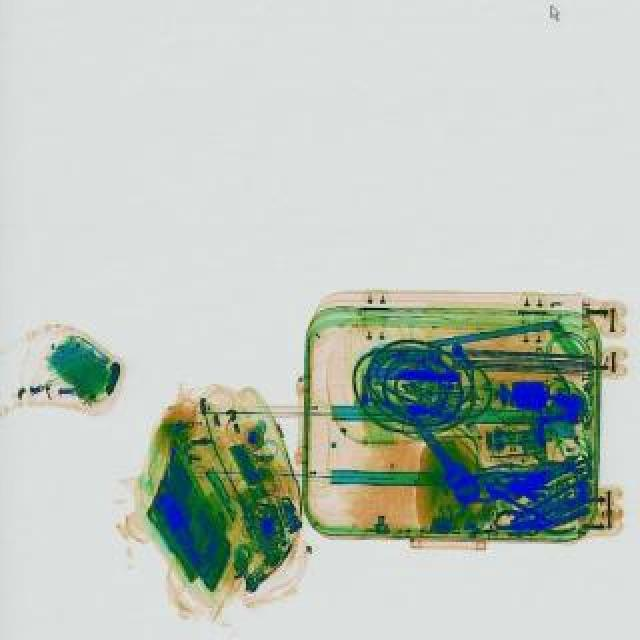scissors: (514, 488, 578, 524)
wrench: (466, 458, 550, 502), (512, 508, 574, 538)
